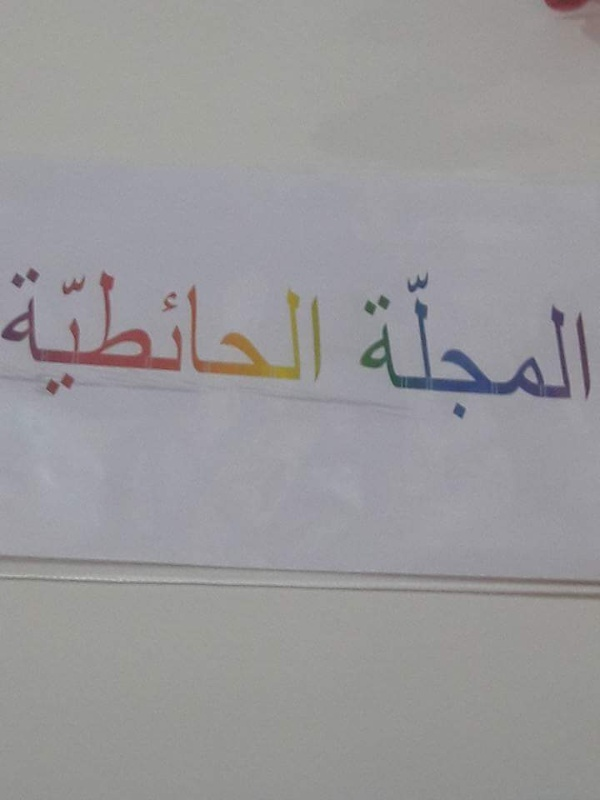text: (369, 259, 384, 431), (385, 259, 400, 431), (401, 259, 416, 431), (417, 259, 432, 431), (433, 259, 448, 431), (449, 259, 464, 431), (465, 259, 480, 431), (481, 259, 496, 431), (497, 259, 512, 431), (513, 259, 528, 431), (529, 259, 544, 431), (545, 259, 560, 431), (561, 259, 576, 431), (577, 259, 592, 431), (17, 267, 32, 403), (33, 267, 48, 403), (49, 267, 64, 403), (65, 267, 80, 403), (81, 267, 96, 403), (97, 267, 112, 403), (113, 267, 128, 403), (129, 267, 144, 403), (145, 267, 160, 403), (161, 267, 176, 403), (177, 267, 192, 403), (193, 267, 208, 403), (209, 267, 224, 403), (225, 267, 240, 403), (241, 267, 256, 403), (257, 267, 272, 403), (273, 267, 288, 403), (289, 267, 304, 403), (305, 267, 320, 403), (5, 267, 16, 403), (361, 259, 368, 431), (593, 259, 596, 431), (321, 267, 323, 403)
